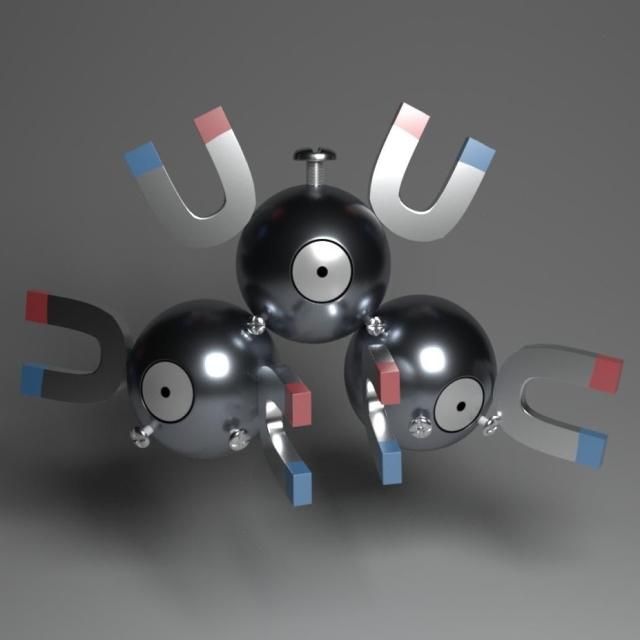Magneton: (78, 86, 544, 512)
